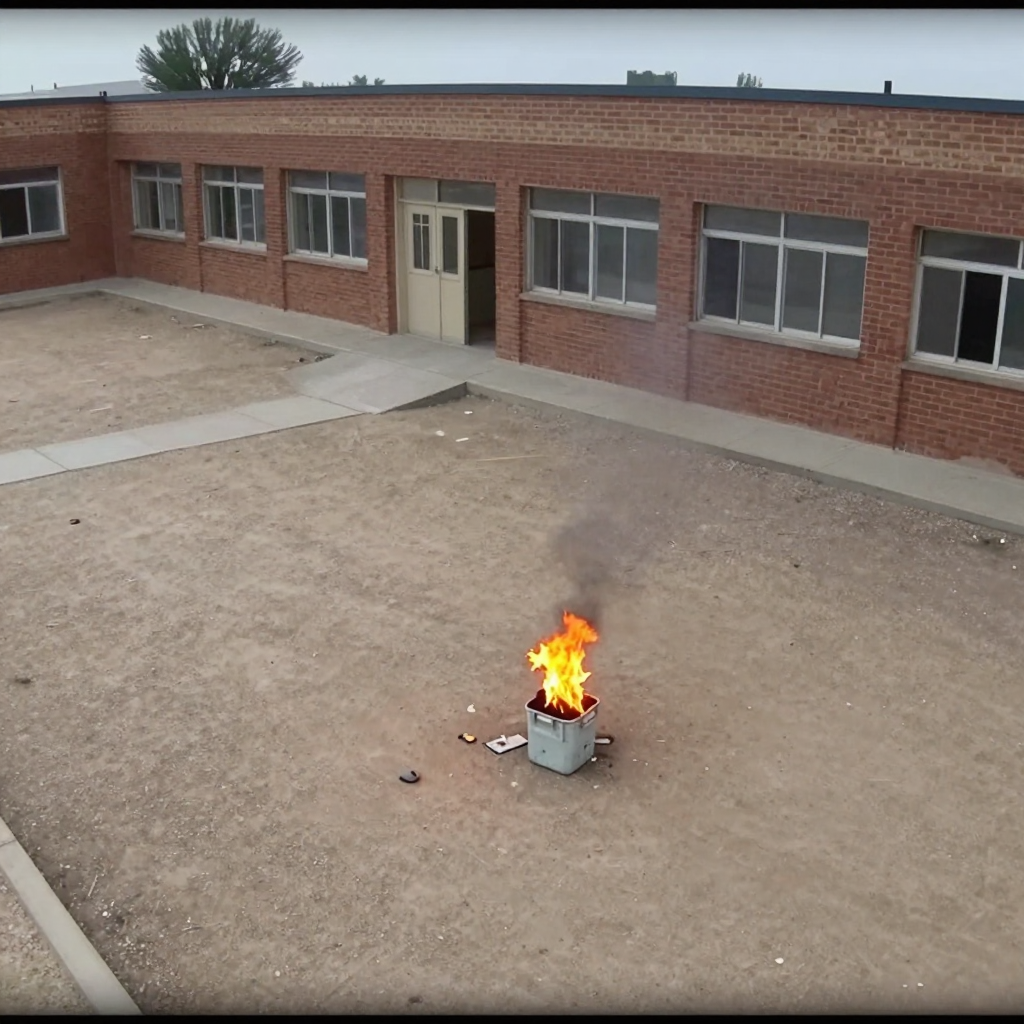Arson: (522, 621, 599, 710)
